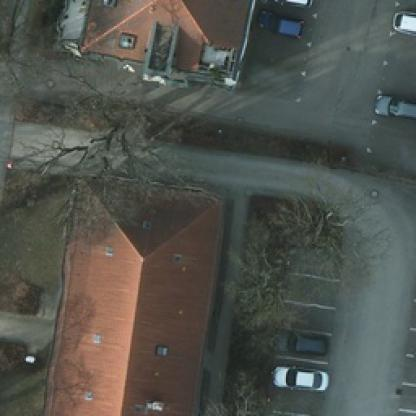car: (272, 364, 328, 390), (252, 13, 300, 41), (274, 330, 328, 352), (370, 93, 414, 117), (390, 10, 413, 34)
